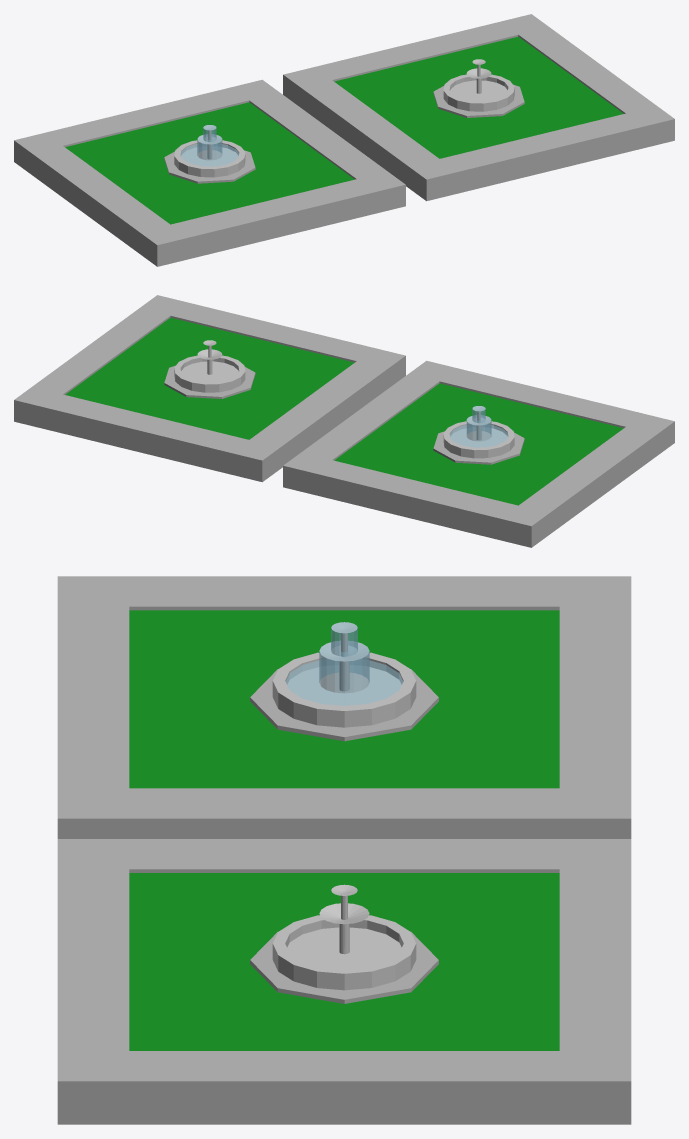
Rendered from CargoFountainModel.fbx.
3 renders of one model, top to bottom at view 1: azimuth 30°, elevation 25°; view 2: azimuth 150°, elevation 25°; view 3: azimuth 270°, elevation 25°, orthographic. The views are drawn at different scales.
Visible parts, largest first — view 1: Fountain, Fountain_NoWater; view 2: Fountain, Fountain_NoWater; view 3: Fountain_NoWater, Fountain.
Boxes of the visible parts, x1,y1,x2,y2 form: Fountain: (14, 79, 405, 266); Fountain_NoWater: (283, 14, 674, 201); Fountain: (283, 360, 674, 547); Fountain_NoWater: (14, 295, 405, 482); Fountain_NoWater: (57, 839, 631, 1124); Fountain: (57, 576, 631, 838).
Bounding box in the file's own units: 2500 × 261 × 1200.
